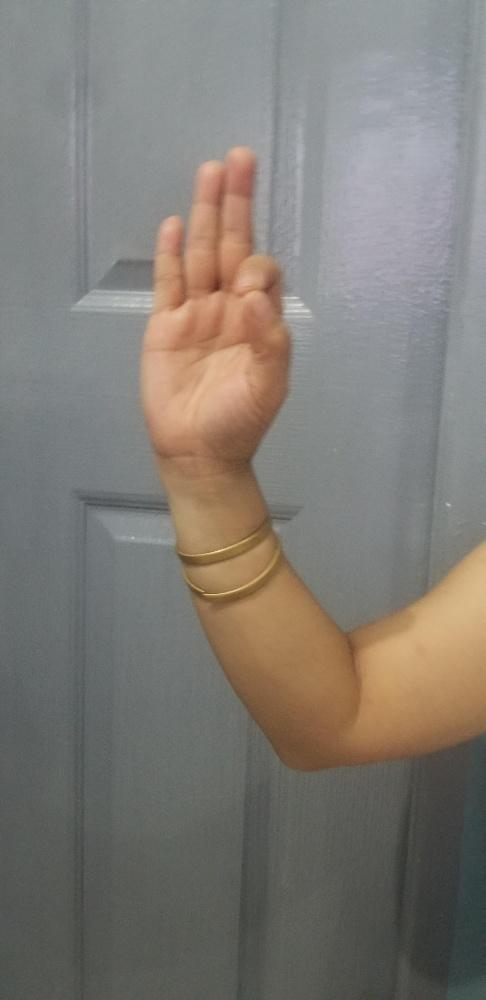f: (137, 145, 290, 461)
